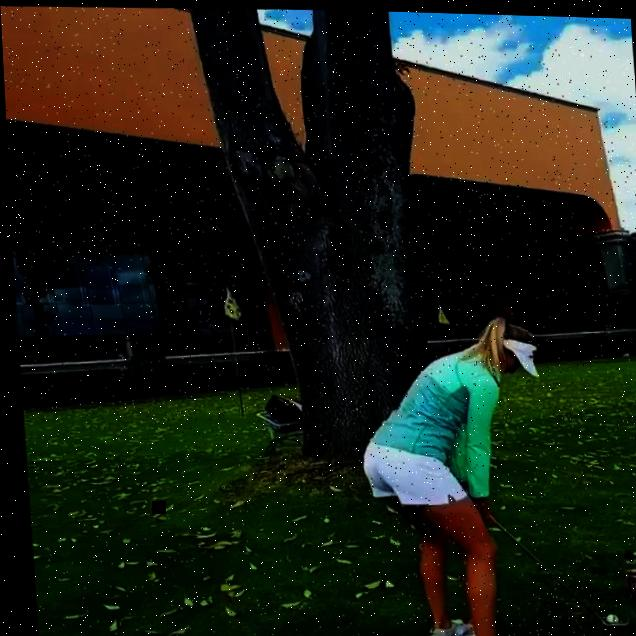ClubHead: (593, 614, 624, 627)
GolfBall: (601, 610, 612, 619)
